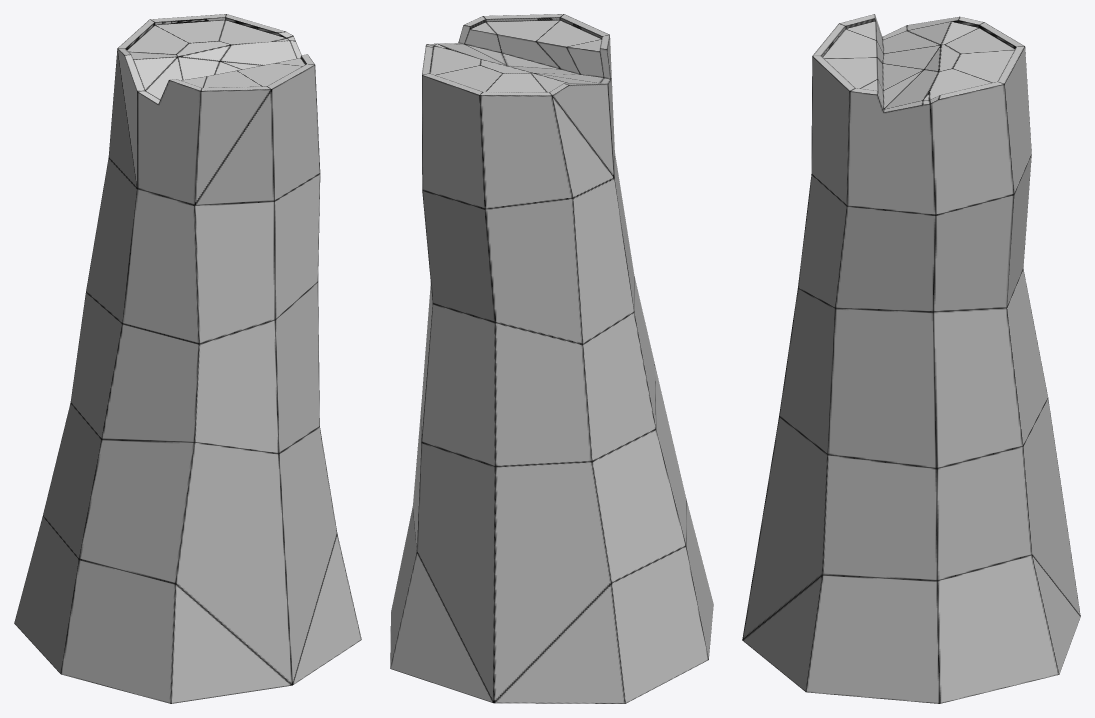
Rendered from Low_Poly_TreeStump.fbx.
3 renders of one model, left to right at view 1: azimuth 30°, elevation 25°; view 2: azimuth 150°, elevation 25°; view 3: azimuth 270°, elevation 25°, orthographic. The views are drawn at different scales.
Parts seen in each view (by area): view 1: Tree_Broken 1; view 2: Tree_Broken 1; view 3: Tree_Broken 1.
Part boxes in pixels (bbox=[...]): Tree_Broken 1: bbox=[14, 14, 361, 703]; Tree_Broken 1: bbox=[390, 14, 713, 703]; Tree_Broken 1: bbox=[742, 14, 1080, 703].
Size of the model in its own units: 51.02 by 98.18 by 50.38.
